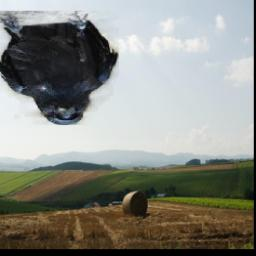Crow: (0, 12, 118, 126)
